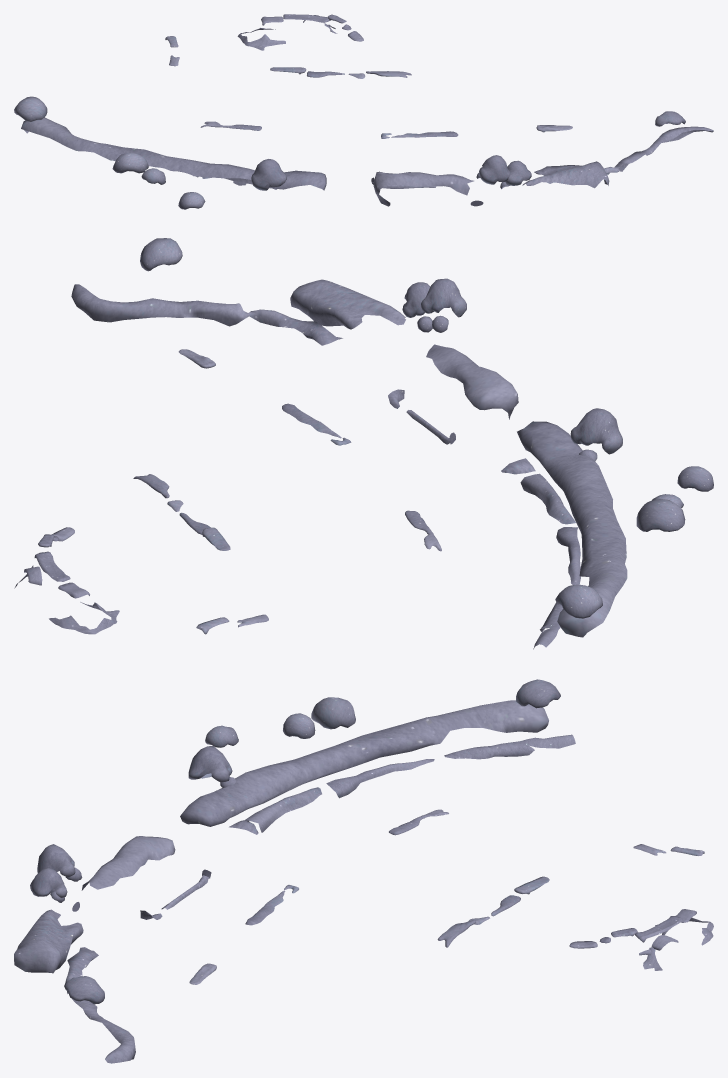
Rendered from pref_sm_beach_winter_snow07_lv2.fbx.
The picture shows the model from 3 angles, top to bottom: view 1: azimuth 30°, elevation 25°; view 2: azimuth 150°, elevation 25°; view 3: azimuth 270°, elevation 25°; orthographic projection. The views are drawn at different scales.
Parts seen in each view (by area): view 1: pref_sm_beach_winter_snow07_lv2; view 2: pref_sm_beach_winter_snow07_lv2; view 3: pref_sm_beach_winter_snow07_lv2.
Boxes of the visible parts, left/top/right/bottom form: pref_sm_beach_winter_snow07_lv2: left=14, top=14, right=713, bottom=209; pref_sm_beach_winter_snow07_lv2: left=14, top=238, right=713, bottom=649; pref_sm_beach_winter_snow07_lv2: left=14, top=679, right=713, bottom=1063.
Bounding box in the file's own units: 49.07 × 5.45 × 42.75.
